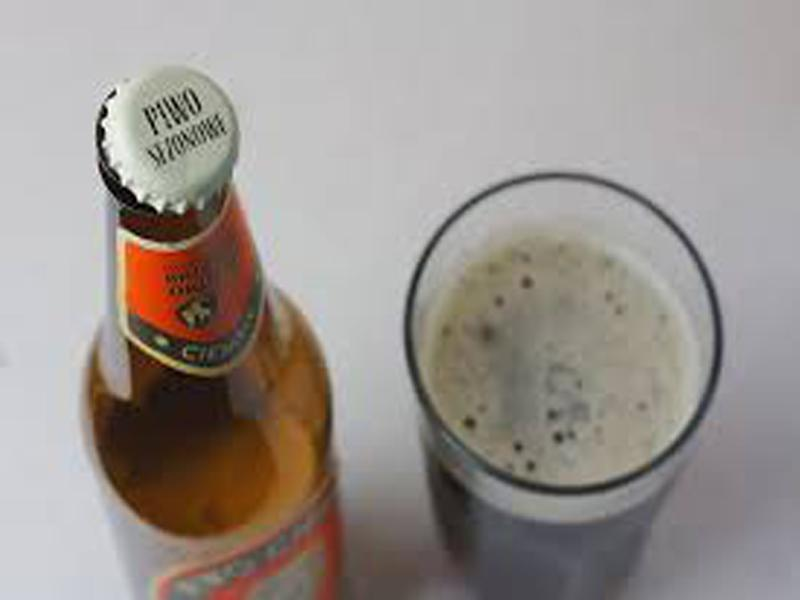Beer: (81, 66, 346, 600)
